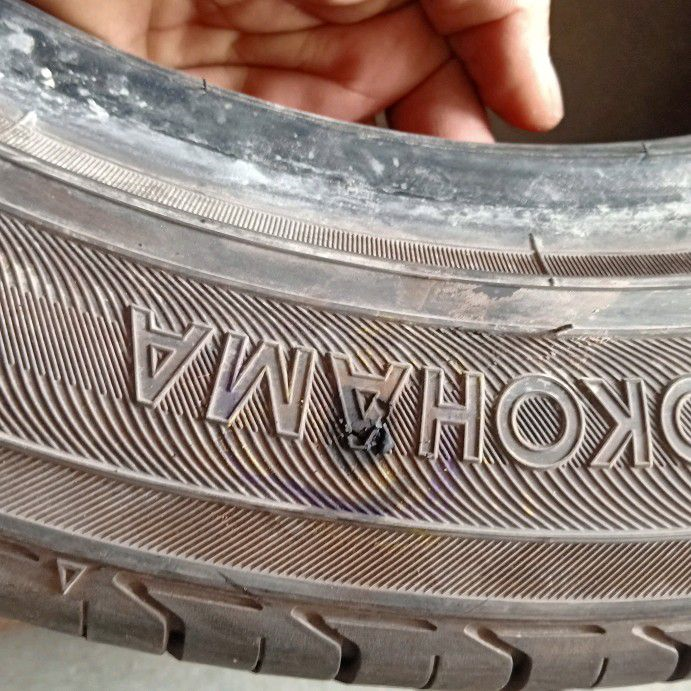cut: (328, 395, 390, 453)
